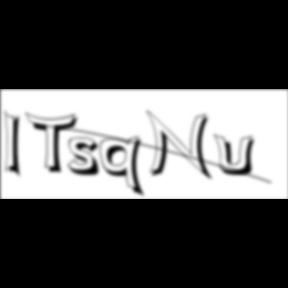N: (146, 109, 216, 183)
T: (25, 112, 83, 176)
l: (4, 108, 28, 182)
q: (101, 135, 150, 200)
s: (69, 137, 108, 179)
u: (214, 132, 262, 178)
